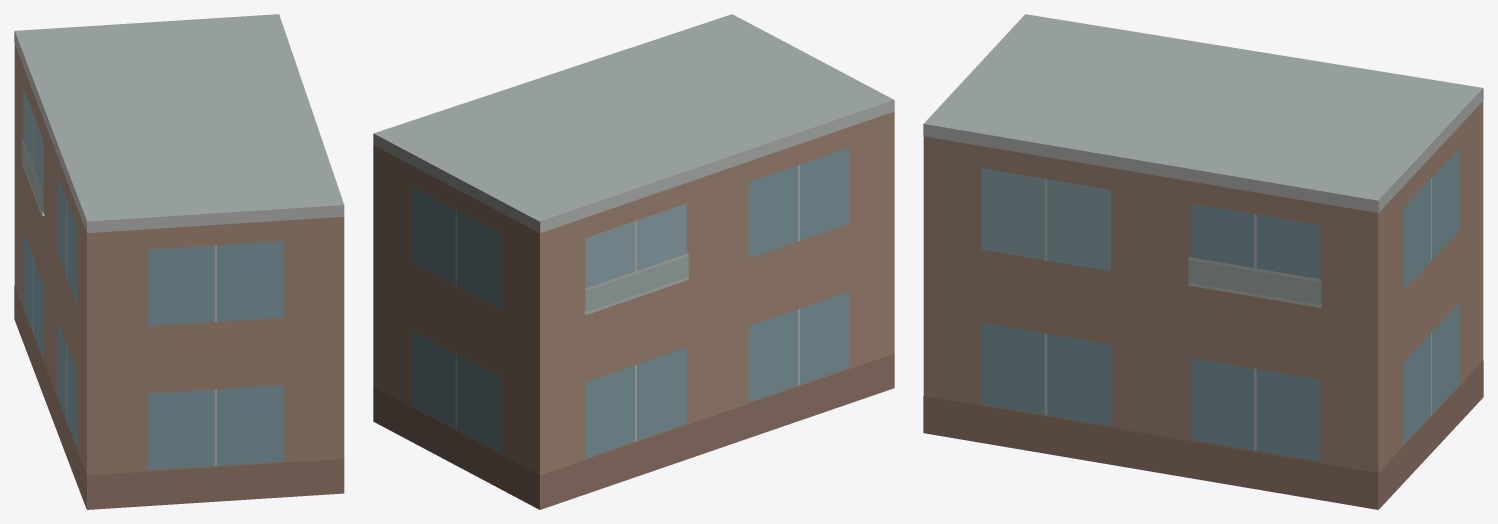
Rendered from survey-upis-32549904.glb.
3 views of the same model, side by side, from view 1: azimuth 30°, elevation 25°; view 2: azimuth 150°, elevation 25°; view 3: azimuth 270°, elevation 25° (orthographic). The views are drawn at different scales.
Parts seen in each view (by area): view 1: survey-upis-32549904.tmp; view 2: survey-upis-32549904.tmp; view 3: survey-upis-32549904.tmp.
Part boxes in pixels (bbox=[...]): survey-upis-32549904.tmp: bbox=[14, 14, 344, 509]; survey-upis-32549904.tmp: bbox=[373, 14, 894, 509]; survey-upis-32549904.tmp: bbox=[923, 14, 1483, 509].
Size of the model in its own units: 7.91 by 6.1 by 10.03.
